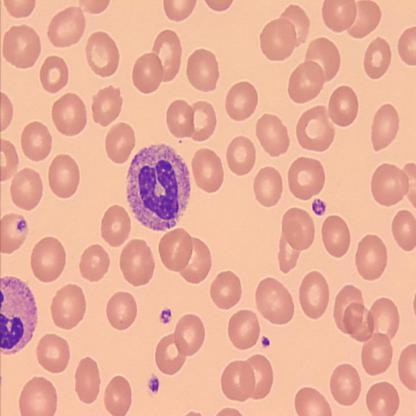Band Neutrophil: (125, 141, 193, 233)
